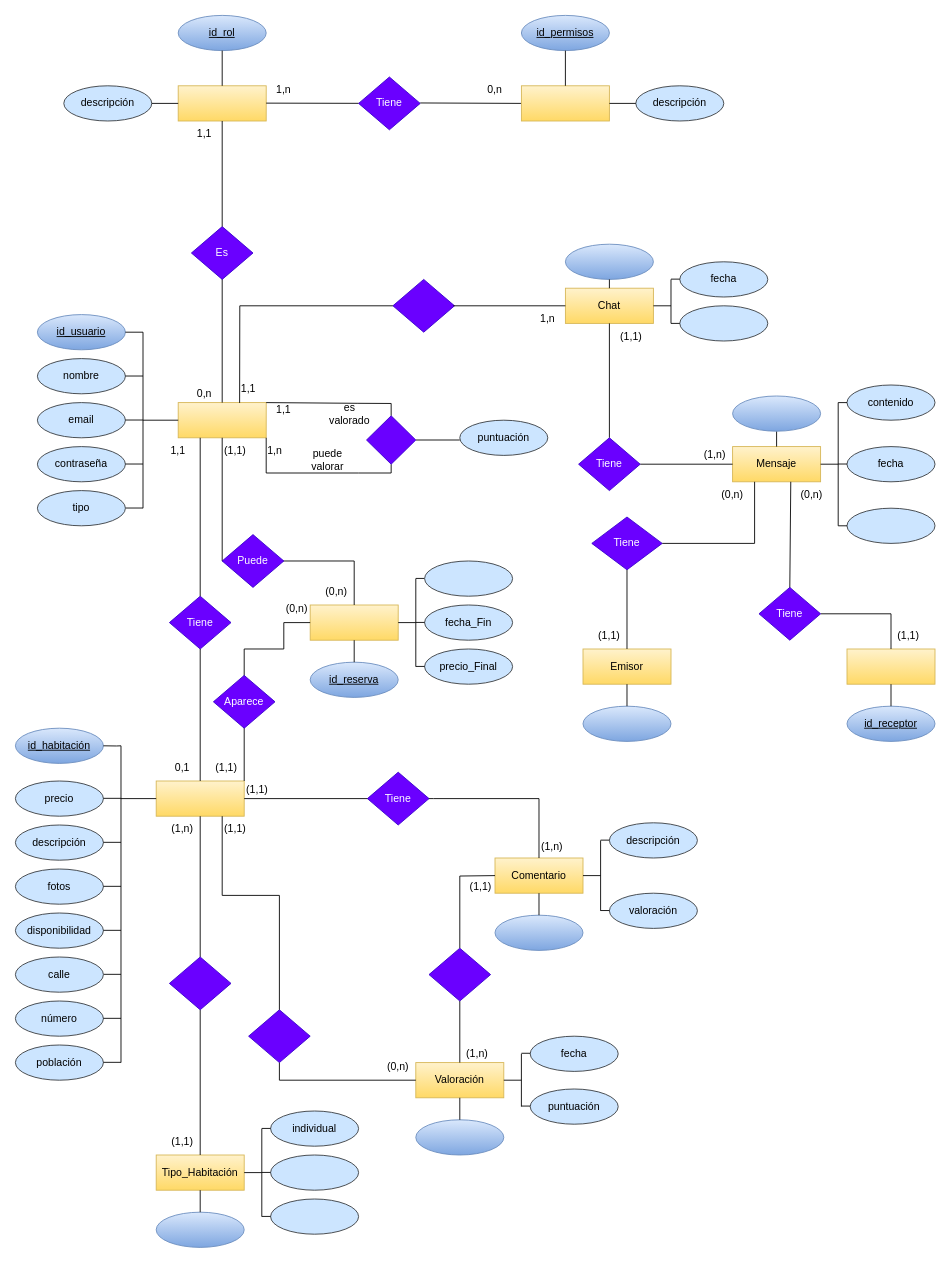
This 950x1263 diagram has some shape labels left out. The shapes that lost their labels are listed below. From the top down, each one's box as (x1, y1, x2, y2) in pixels, then its label:
(177, 85, 266, 121): ROL
(521, 85, 609, 121): Permisos
(565, 243, 653, 279): id_chat
(392, 279, 455, 332): Enviar
(679, 305, 768, 341): texto
(177, 402, 266, 438): Usuario
(732, 395, 821, 431): id_mensaje
(366, 415, 416, 464): Valorado
(846, 507, 935, 543): hora
(424, 560, 513, 596): fecha_Inicio
(309, 604, 398, 640): Reserva
(846, 648, 935, 684): Receptor
(582, 705, 671, 741): id_emisor
(155, 780, 244, 816): Habitación
(494, 914, 583, 950): id_comentario
(169, 956, 231, 1010): Esta
(428, 947, 491, 1001): Pertenece
(248, 1009, 310, 1063): Recibe
(415, 1119, 504, 1155): id_valoracion
(270, 1154, 359, 1190): doble
(155, 1211, 244, 1247): id_tipoHabitacion
(270, 1198, 359, 1234): estudio
